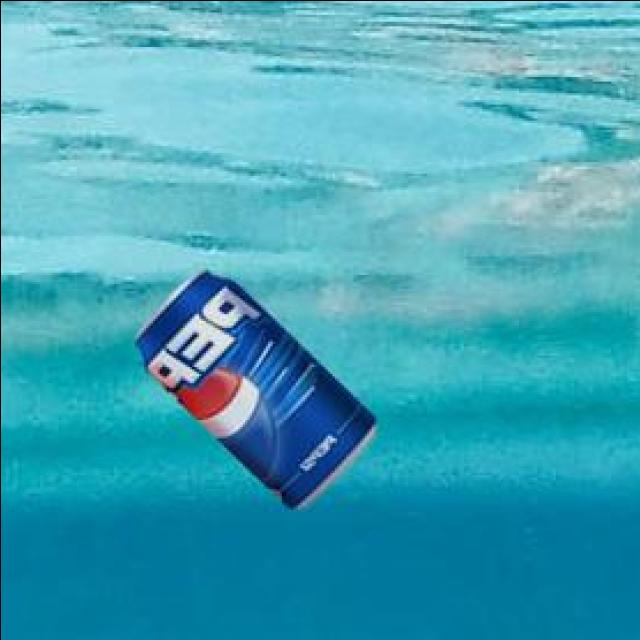logam: (139, 266, 379, 503)
